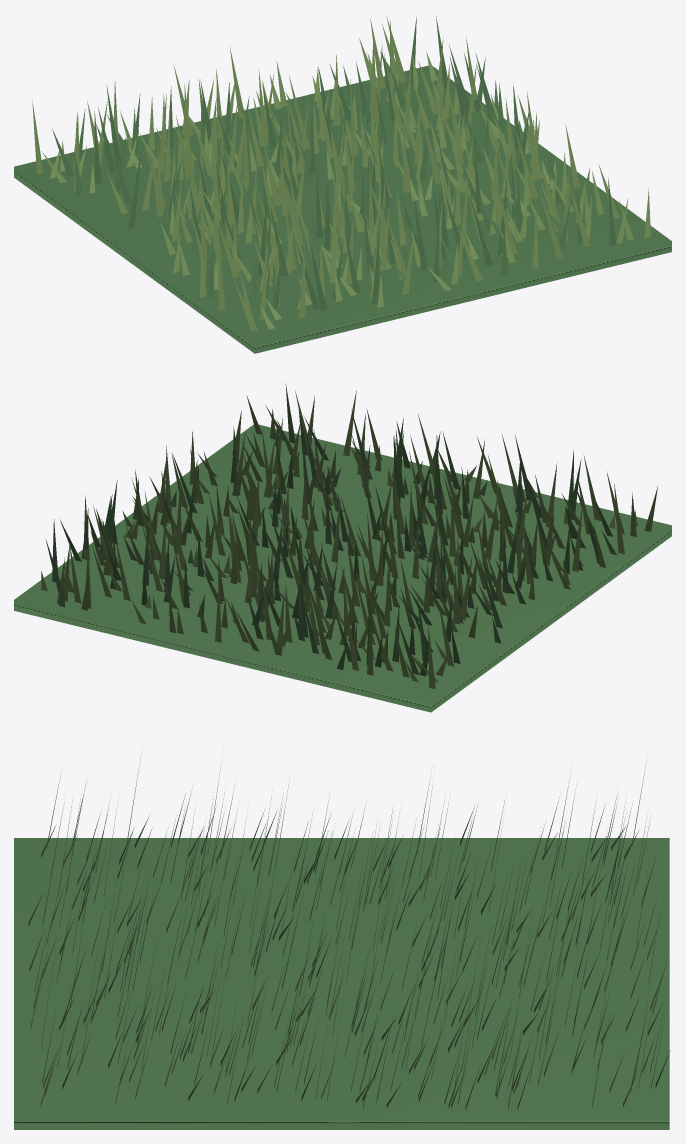
Rendered from grass.glb.
3 views of the same model, one above another, from view 1: azimuth 30°, elevation 25°; view 2: azimuth 150°, elevation 25°; view 3: azimuth 270°, elevation 25° (orthographic). The views are drawn at different scales.
Parts seen in each view (by area): view 1: grass; view 2: grass; view 3: grass.
Boxes of the visible parts, box(x1,y1,x2,y2) form: grass: box(14, 16, 671, 353); grass: box(14, 383, 671, 712); grass: box(14, 754, 670, 1129).
Bounding box in the file's own units: 1.02 × 0.1998 × 1.
